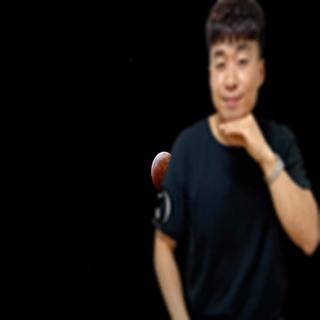Wait: (215, 110, 270, 161)
